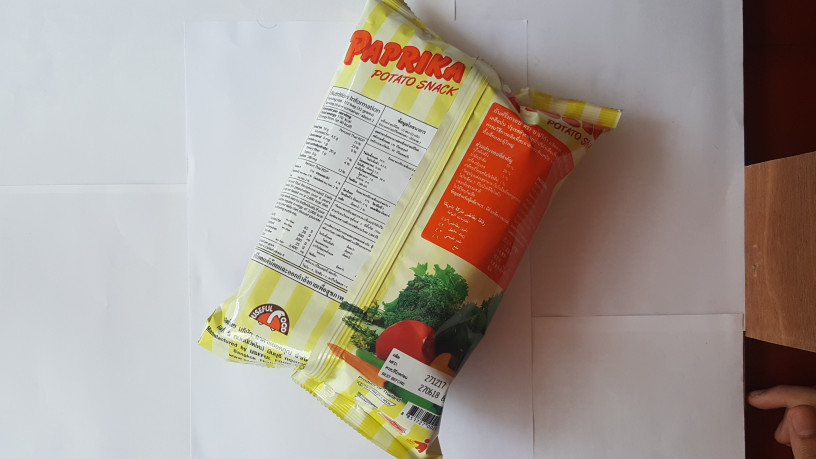paprika: (192, 1, 638, 452)
